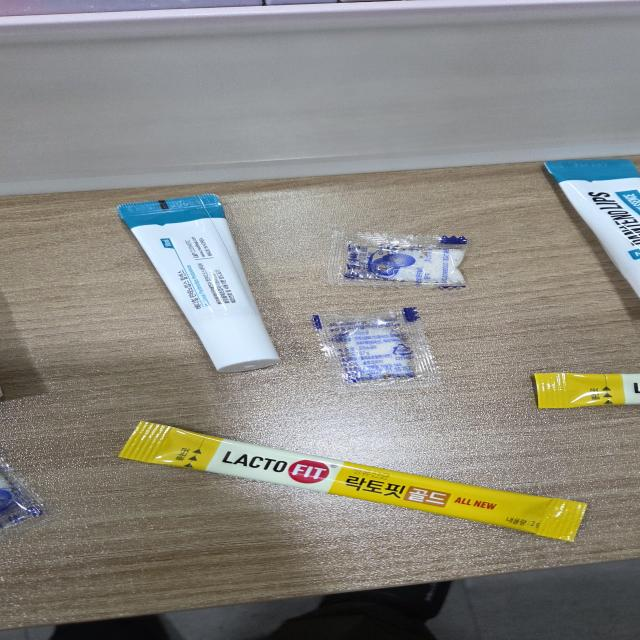lacto: (105, 414, 604, 551), (523, 359, 640, 417)
lip: (109, 189, 306, 380), (531, 155, 640, 313)
salt: (307, 298, 455, 398), (322, 229, 486, 291), (0, 441, 65, 538)
